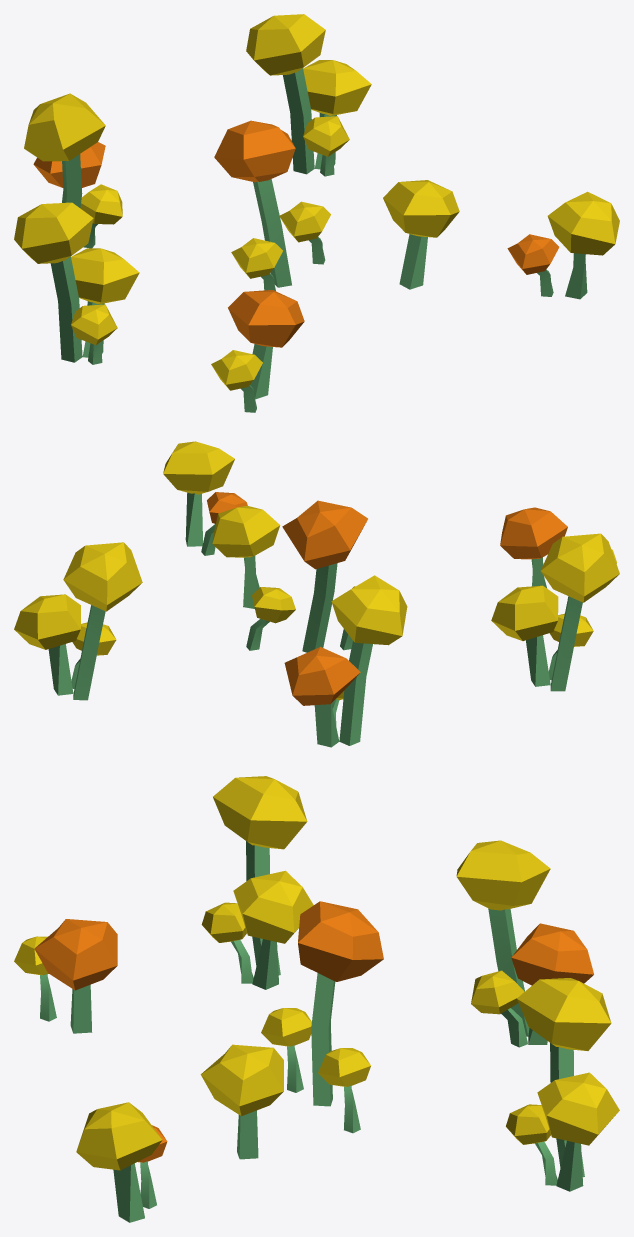
Rendered from SM_Tile_Yellow_flowers.fbx.
3 renders of one model, top to bottom at view 1: azimuth 30°, elevation 25°; view 2: azimuth 150°, elevation 25°; view 3: azimuth 270°, elevation 25°, orthographic. The views are drawn at different scales.
Visible parts, largest first — view 1: SM_Flowers_Yellow; view 2: SM_Flowers_Yellow; view 3: SM_Flowers_Yellow.
Boxes of the visible parts, bbox=[...] form: SM_Flowers_Yellow: bbox=[14, 14, 619, 412]; SM_Flowers_Yellow: bbox=[14, 441, 619, 747]; SM_Flowers_Yellow: bbox=[14, 776, 619, 1222].
Bounding box in the file's own units: 0.8647 × 0.2444 × 0.7486.
